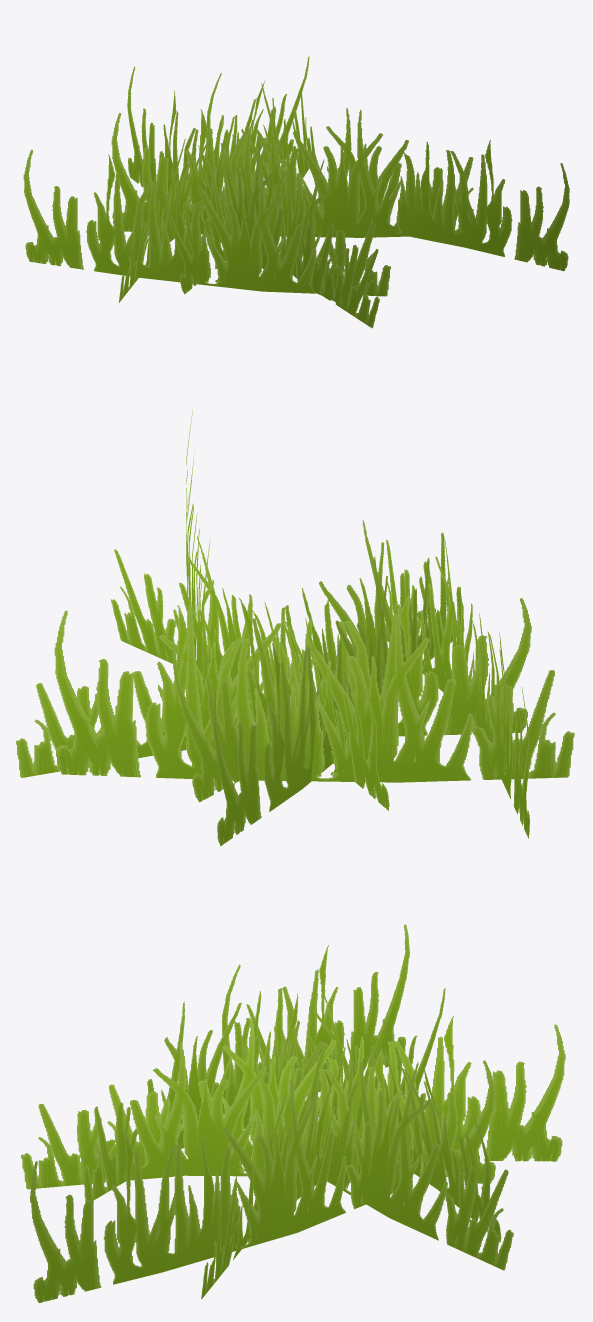
The model's file is grass-tuft-dark-3.fbx.
3 views of the same model, one above another, from view 1: azimuth 30°, elevation 25°; view 2: azimuth 150°, elevation 25°; view 3: azimuth 270°, elevation 25° (orthographic). The views are drawn at different scales.
Visible parts, largest first — view 1: Plane.001; view 2: Plane.001; view 3: Plane.001.
Boxes of the visible parts, left/top/right/bottom form: Plane.001: left=23, top=56, right=569, bottom=328; Plane.001: left=16, top=409, right=574, bottom=845; Plane.001: left=21, top=924, right=565, bottom=1302.
Bounding box in the file's own units: 304 × 103 × 288.
1 material, 1 textured.
